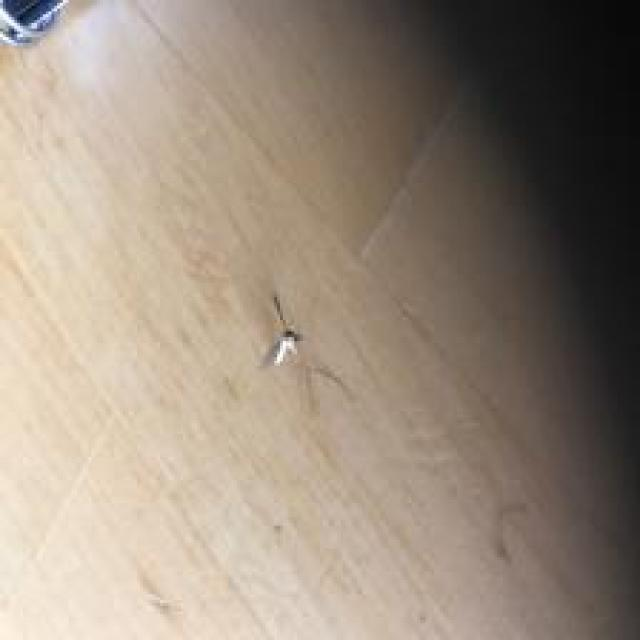Culex: (263, 293, 303, 367)
